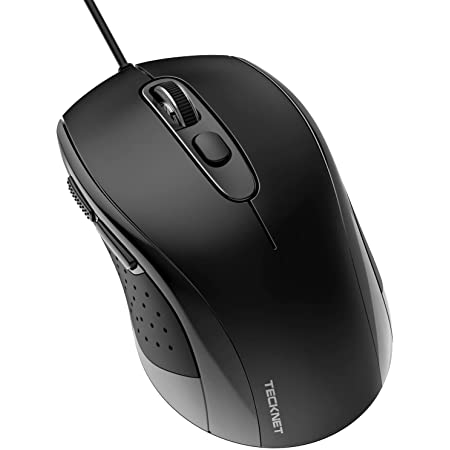mouse: (58, 55, 397, 450)
